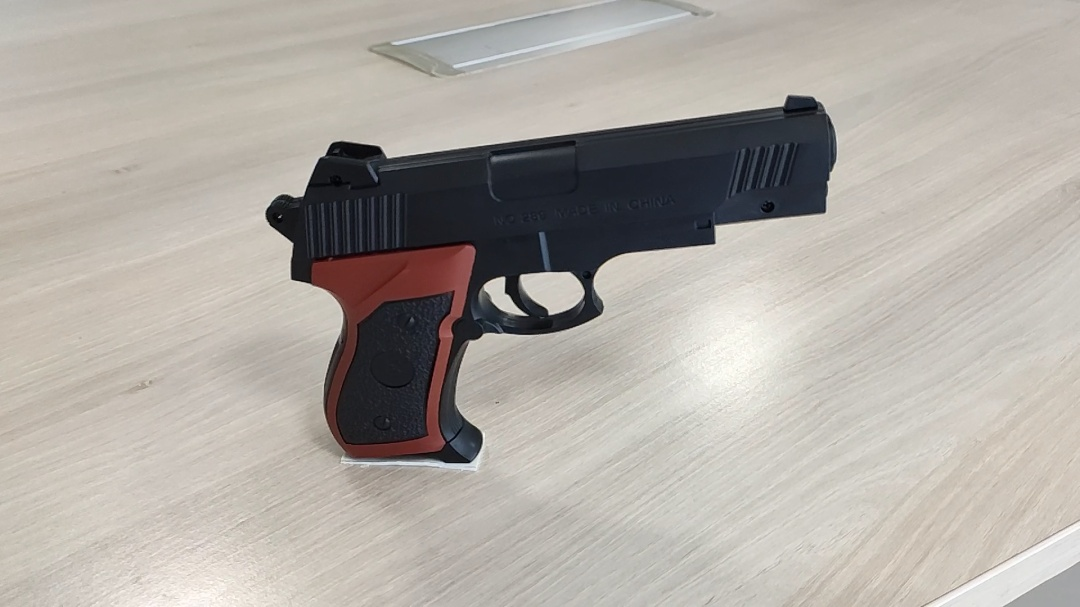gun: (263, 94, 840, 466)
